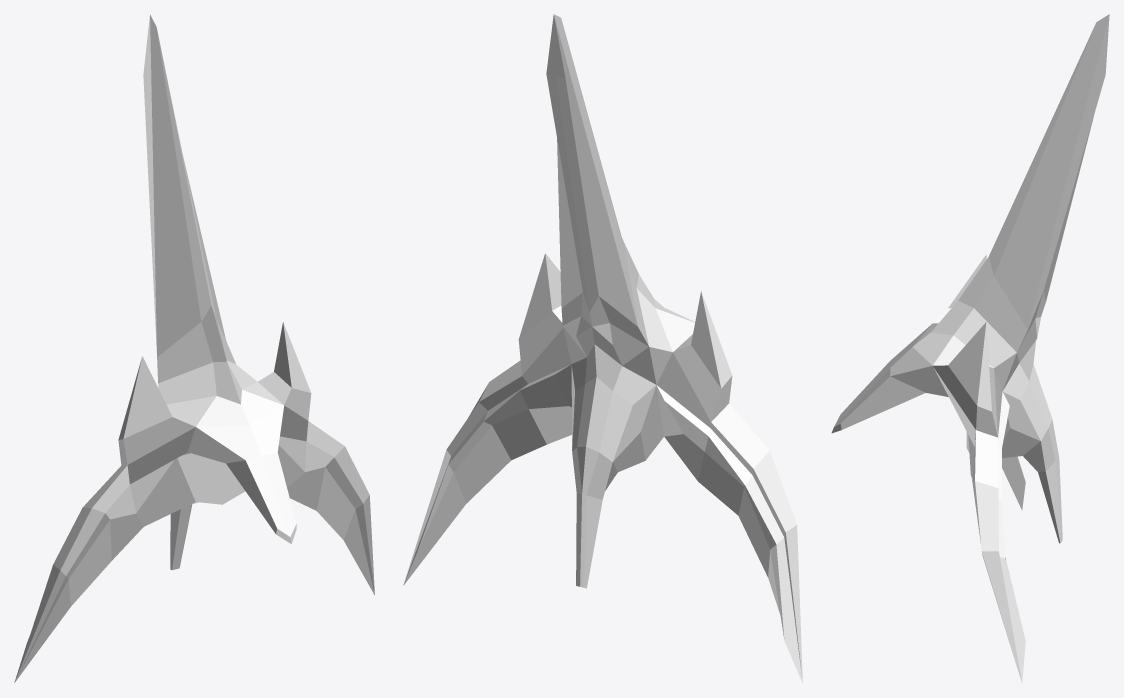
The model's file is head_42.fbx.
3 renders of one model, left to right at view 1: azimuth 30°, elevation 25°; view 2: azimuth 150°, elevation 25°; view 3: azimuth 270°, elevation 25°, orthographic. The views are drawn at different scales.
Parts seen in each view (by area): view 1: Cube.173; view 2: Cube.173; view 3: Cube.173.
Part boxes in pixels (x1,y1,x2,y2): Cube.173: (14, 14, 374, 682); Cube.173: (403, 14, 802, 683); Cube.173: (831, 14, 1109, 683).
Bounding box in the file's own units: 116 × 183 × 79.07.
